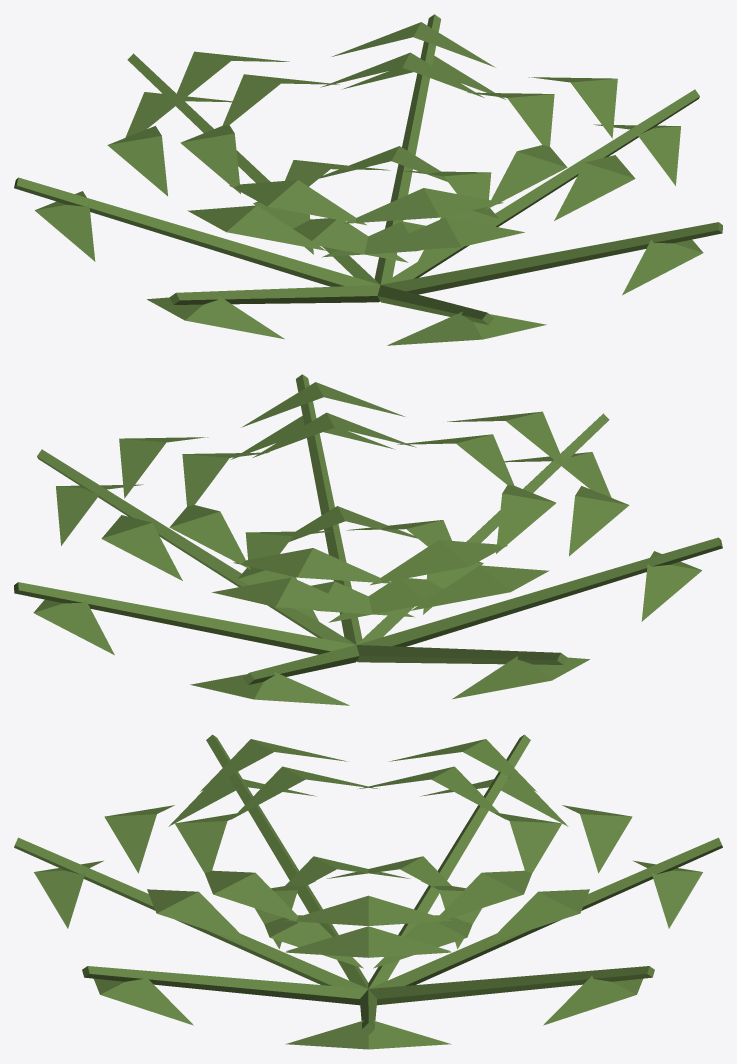
Rendered from fern_a.glb.
3 renders of one model, top to bottom at view 1: azimuth 30°, elevation 25°; view 2: azimuth 150°, elevation 25°; view 3: azimuth 270°, elevation 25°, orthographic.
Visible parts, largest first — view 1: fern_a; view 2: fern_a; view 3: fern_a.
Part boxes in pixels (<box>): fern_a: <box>14,14,722,345</box>; fern_a: <box>14,374,722,705</box>; fern_a: <box>14,734,722,1049</box>.
Bounding box in the file's own units: 1.24 × 0.3384 × 1.27.
